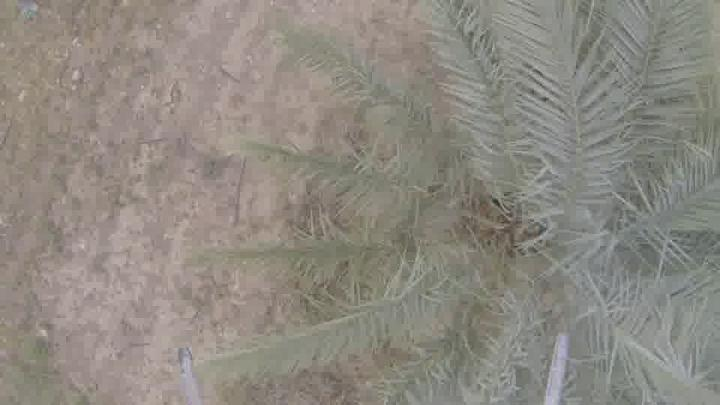Date-Palm-Crown: (357, 48, 719, 404)
